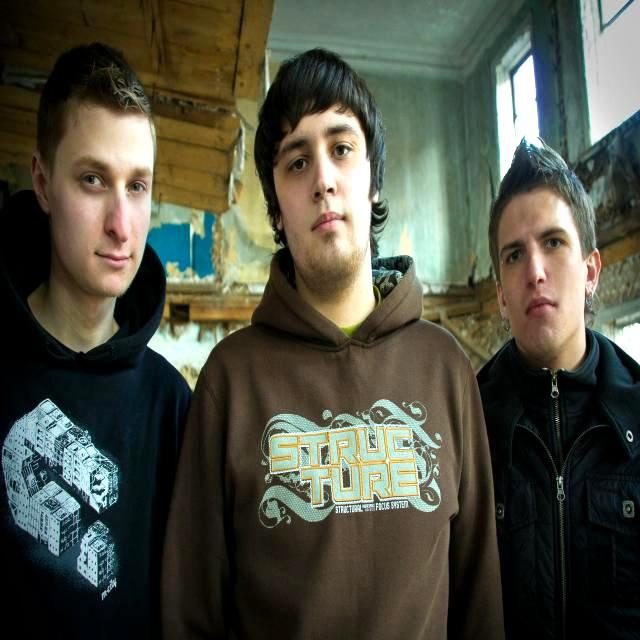no_head_wear: (37, 42, 153, 155), (258, 47, 384, 149), (490, 137, 592, 225)
person: (173, 49, 499, 638), (0, 43, 191, 640), (477, 140, 640, 640)
